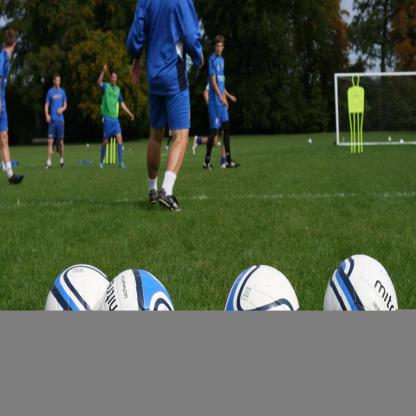face: (112, 73, 118, 86), (217, 43, 223, 56), (55, 78, 61, 88)
